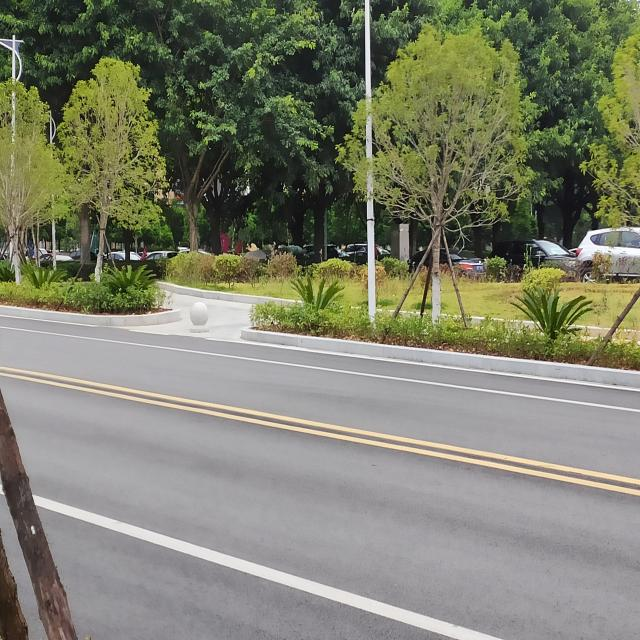car: (573, 225, 636, 283), (489, 237, 577, 270), (408, 246, 486, 276), (344, 242, 384, 264), (144, 250, 178, 259), (106, 251, 138, 260)
pole: (363, 1, 378, 325)
spherical_roadblock: (189, 300, 210, 334)
